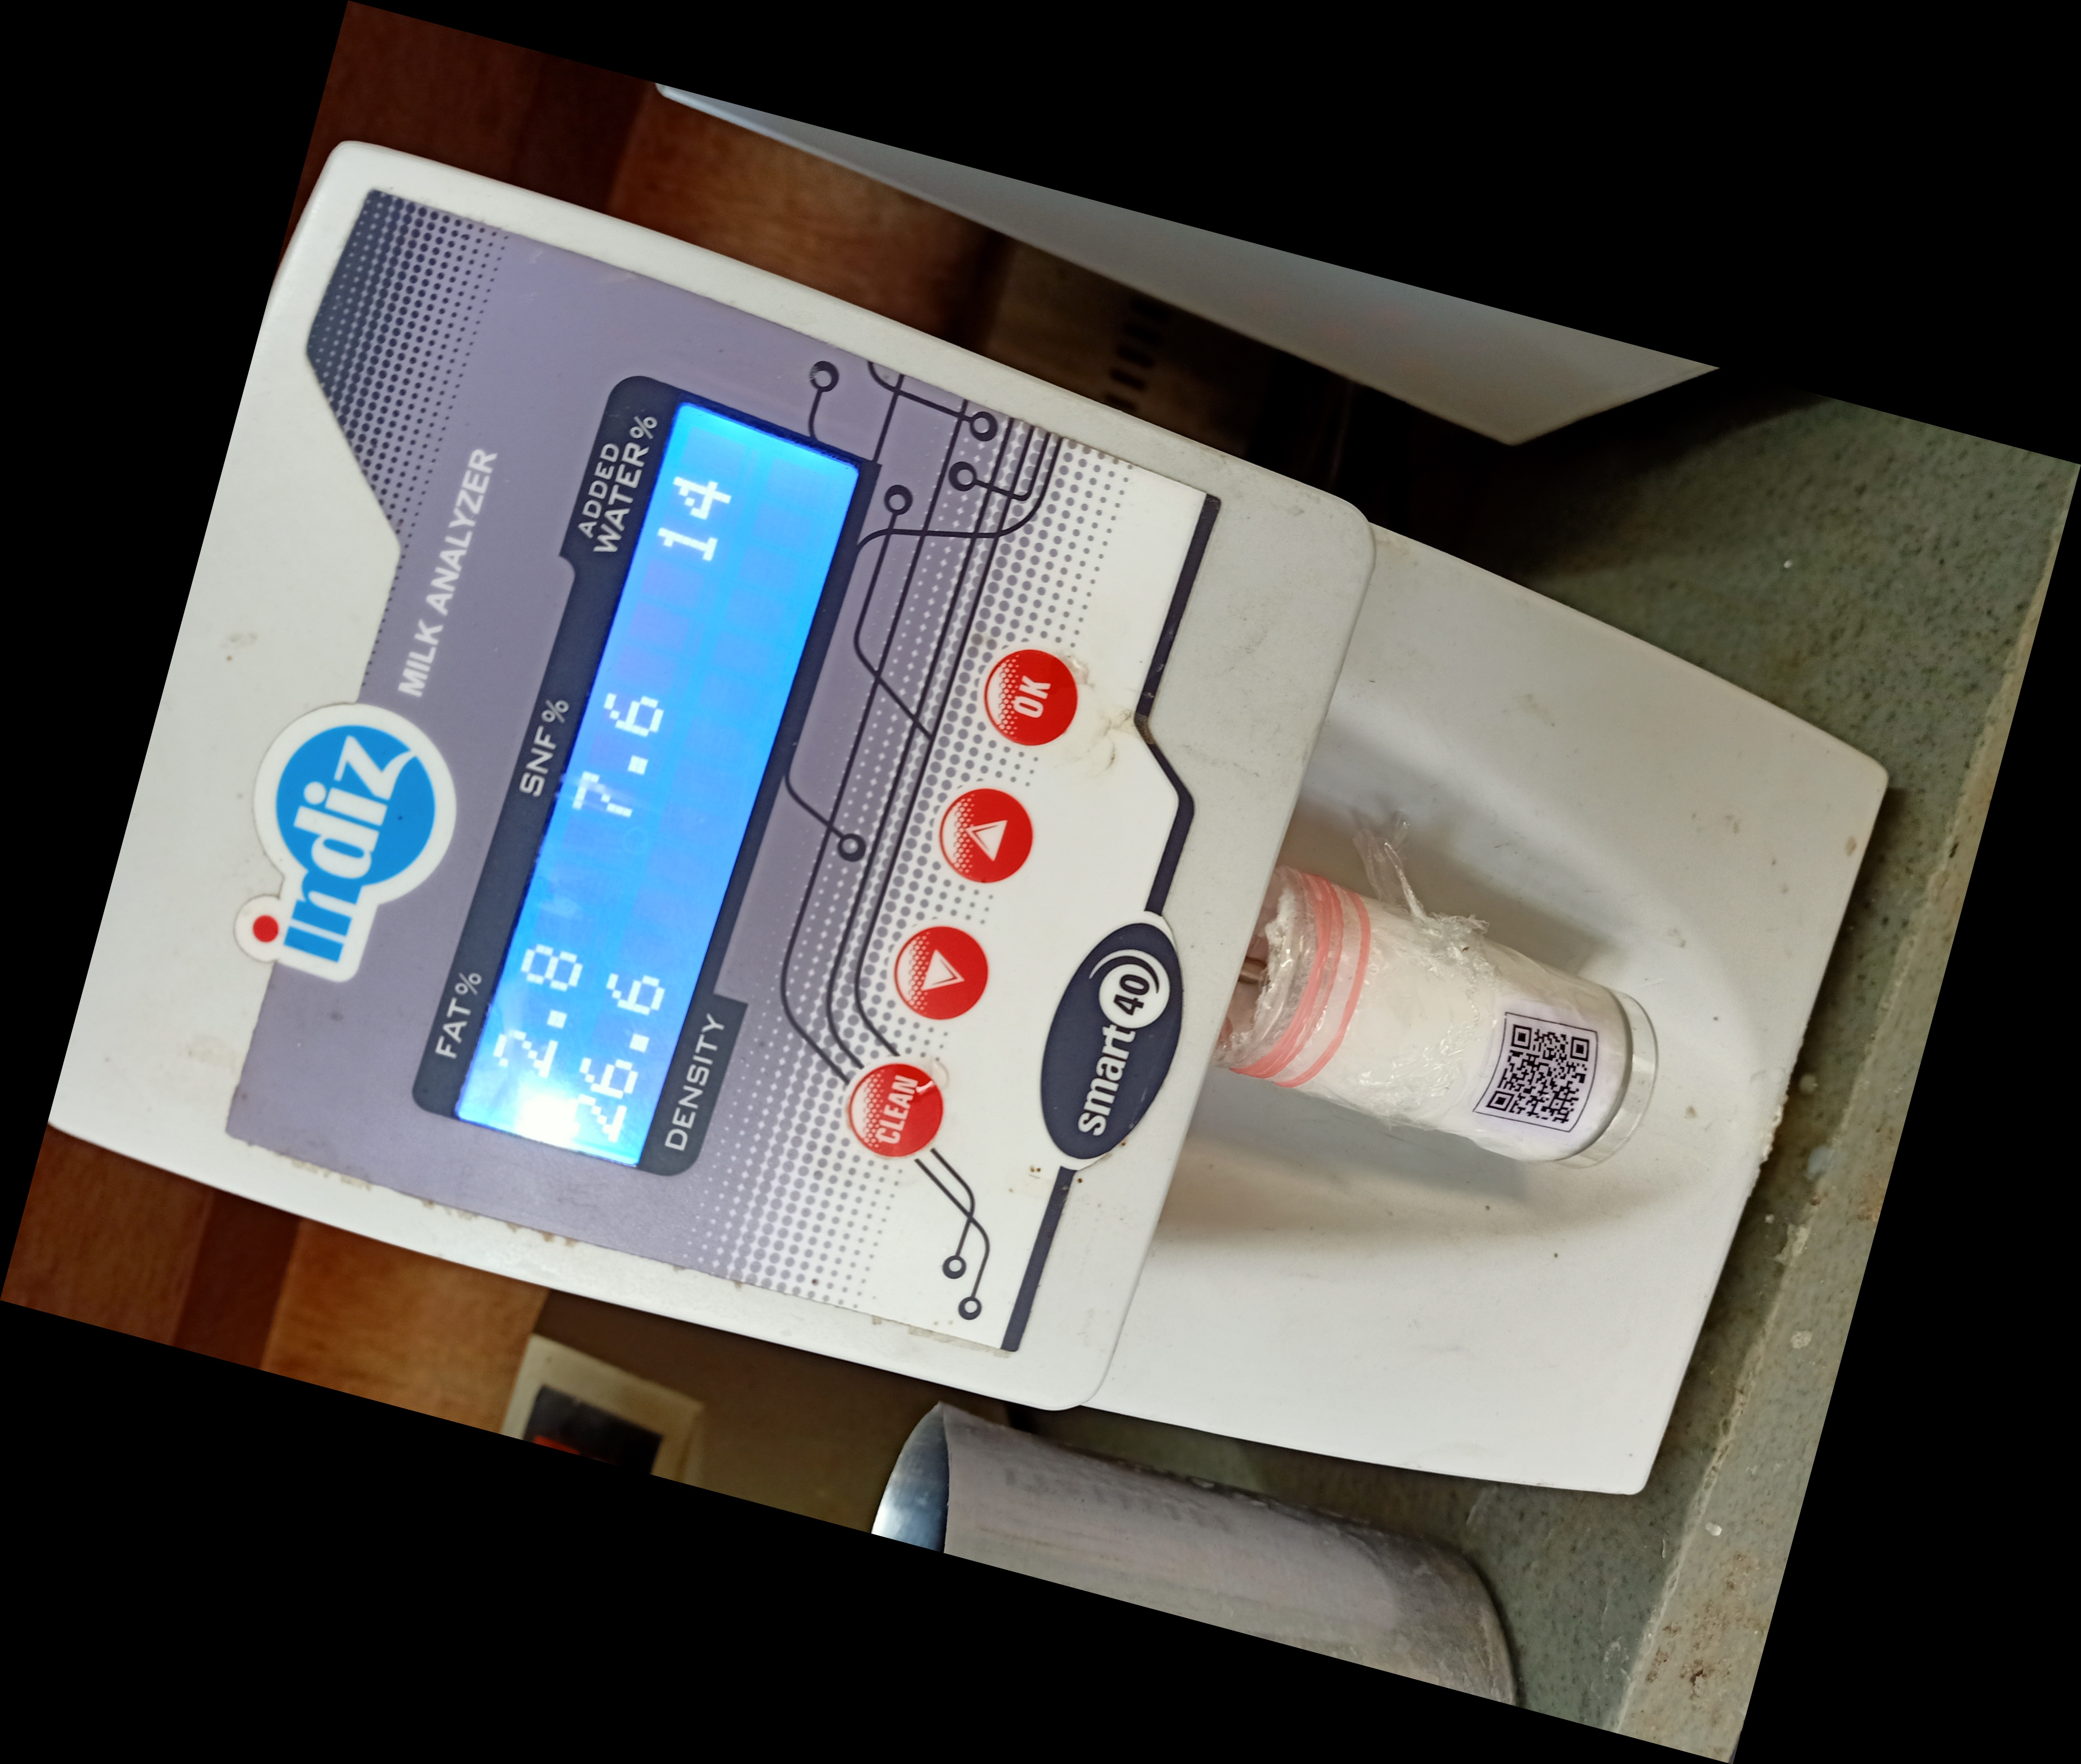lcd: (403, 361, 851, 1204)
